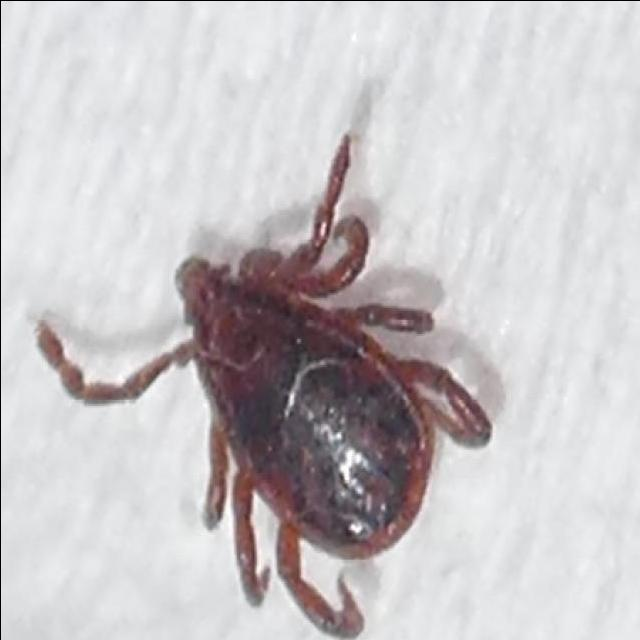Rhipicephalus Sanguineus-M: (34, 134, 494, 637)
